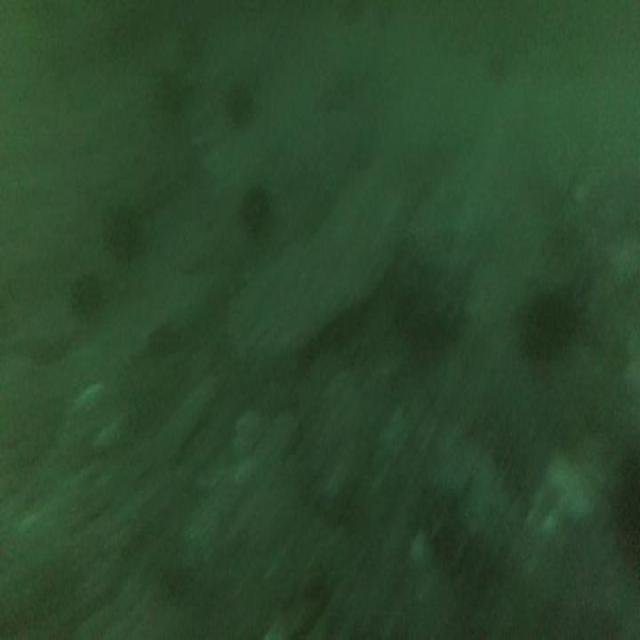echinus: (517, 281, 577, 376), (101, 188, 146, 267), (65, 262, 103, 334), (239, 178, 272, 242), (223, 71, 255, 134)
